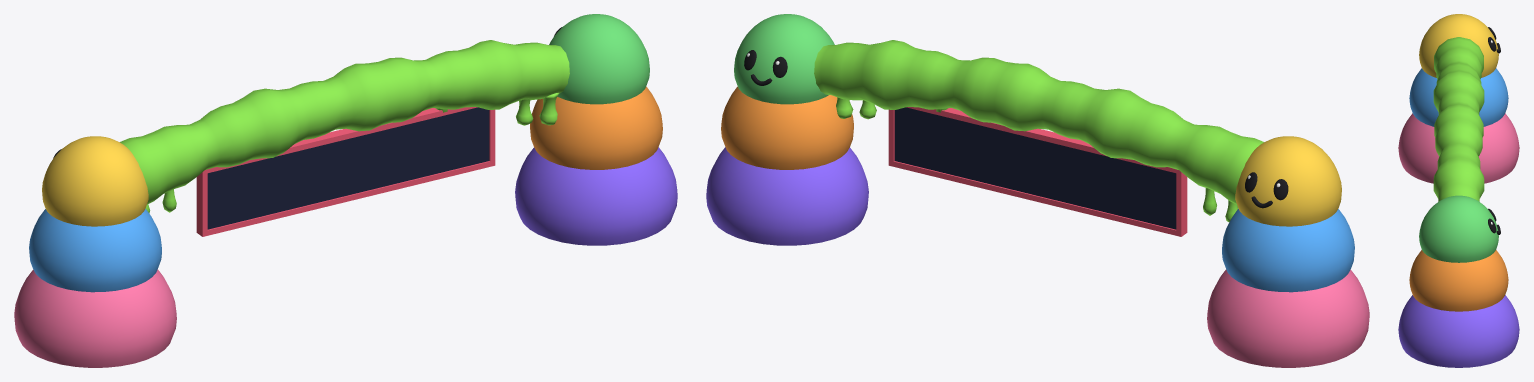
Rendered from ValleyGate.glb.
3 views of the same model, side by side, from view 1: azimuth 30°, elevation 25°; view 2: azimuth 150°, elevation 25°; view 3: azimuth 270°, elevation 25° (orthographic). The views are drawn at different scales.
Visible parts, largest first — view 1: Arch, SignPanel, SlimePurple, SlimePink, SlimeBlue, SlimeOrange, SlimeYellow, SlimeGreen, SignFrame, Drips; view 2: Arch, SignPanel, SlimePurple, SlimePink, SlimeBlue, SlimeOrange, SlimeYellow, SlimeGreen, SignFrame, Drips, Eyes; view 3: Arch, SlimePurple, SlimeOrange, SlimeGreen, SlimePink, SlimeYellow, SlimeBlue, Eyes.
Part boxes in pixels (x1,y1,x2,y2): Arch: (120, 40, 569, 204); SignPanel: (207, 107, 489, 229); SlimePurple: (515, 147, 677, 245); SlimePink: (14, 269, 176, 367); SlimeBlue: (29, 209, 161, 292); SlimeOrange: (530, 86, 662, 169); SlimeYellow: (42, 136, 148, 226); SlimeGreen: (549, 14, 649, 104); SignFrame: (196, 107, 495, 236); Drips: (145, 93, 558, 213); Arch: (814, 40, 1263, 204); SignPanel: (894, 107, 1176, 229); SlimePurple: (706, 147, 868, 245); SlimePink: (1207, 269, 1369, 367); SlimeBlue: (1222, 209, 1354, 292); SlimeOrange: (721, 86, 853, 169); SlimeYellow: (1235, 136, 1341, 226); SlimeGreen: (734, 14, 834, 104); SignFrame: (888, 107, 1187, 236); Drips: (836, 97, 1238, 222); Eyes: (744, 50, 1288, 200); Arch: (1433, 37, 1484, 201); SlimePurple: (1398, 295, 1519, 367); SlimeOrange: (1409, 250, 1508, 311); SlimeGreen: (1419, 195, 1498, 262); SlimePink: (1398, 113, 1519, 183); SlimeYellow: (1419, 14, 1498, 77); SlimeBlue: (1409, 68, 1508, 126); Eyes: (1488, 27, 1496, 233).
Bounding box in the file's own units: 100 × 30.39 × 22.
